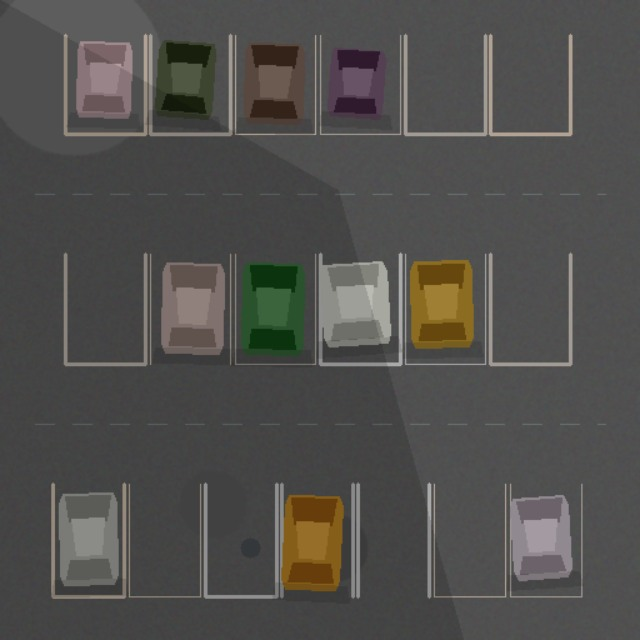space-empty: (65, 254, 145, 364), (490, 254, 570, 364), (129, 484, 200, 596), (205, 484, 276, 596), (358, 484, 429, 596), (434, 484, 505, 596), (405, 35, 485, 134), (490, 35, 570, 134)
space-occupied: (150, 254, 230, 364), (235, 254, 315, 364), (320, 254, 400, 364), (405, 254, 485, 364), (52, 484, 124, 596), (281, 484, 352, 596), (510, 484, 581, 596), (65, 35, 145, 134), (150, 35, 230, 134), (235, 35, 315, 134), (320, 35, 400, 134)
